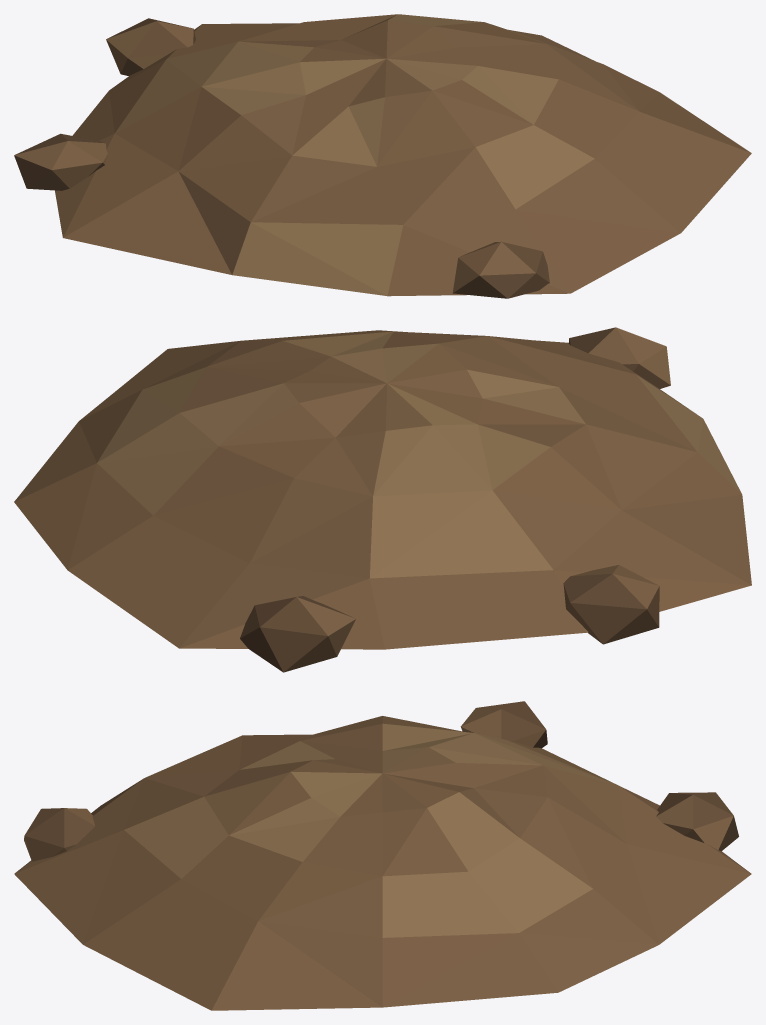
The model's file is GroundDetail_DirtClump.fbx.
3 renders of one model, top to bottom at view 1: azimuth 30°, elevation 25°; view 2: azimuth 150°, elevation 25°; view 3: azimuth 270°, elevation 25°, orthographic. The views are drawn at different scales.
Visible parts, largest first — view 1: GroundDetail_DirtClump; view 2: GroundDetail_DirtClump; view 3: GroundDetail_DirtClump.
Part boxes in pixels (x1,y1,x2,y2): GroundDetail_DirtClump: (14,14,751,298); GroundDetail_DirtClump: (14,327,751,672); GroundDetail_DirtClump: (14,701,751,1010).
Bounding box in the file's own units: 0.3464 × 0.0589 × 0.3662.
1 material, 1 textured.
